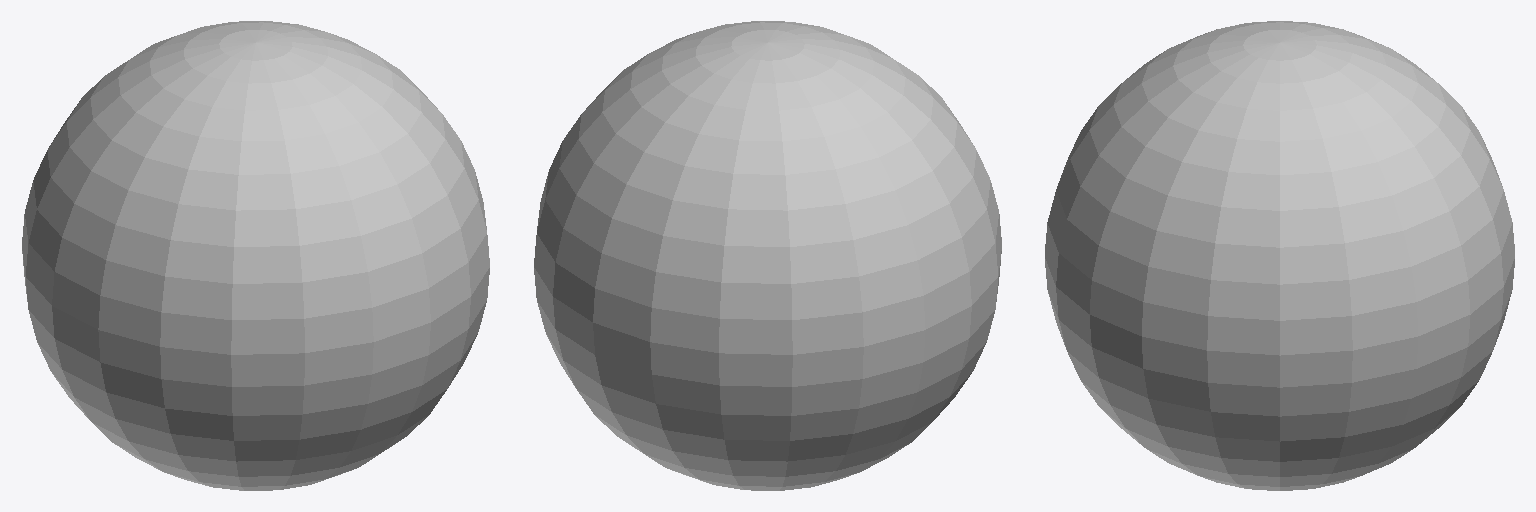
File: Es_D_der.obj
3 views of the same model, side by side, from view 1: azimuth 30°, elevation 25°; view 2: azimuth 150°, elevation 25°; view 3: azimuth 270°, elevation 25° (orthographic).
Visible parts, largest first — view 1: pSphere5; view 2: pSphere5; view 3: pSphere5.
Boxes of the visible parts, x1,y1,x2,y2 form: pSphere5: [22, 21, 489, 490]; pSphere5: [534, 21, 1001, 490]; pSphere5: [1045, 21, 1514, 490].
Bounding box in the file's own units: 2 × 2 × 2.